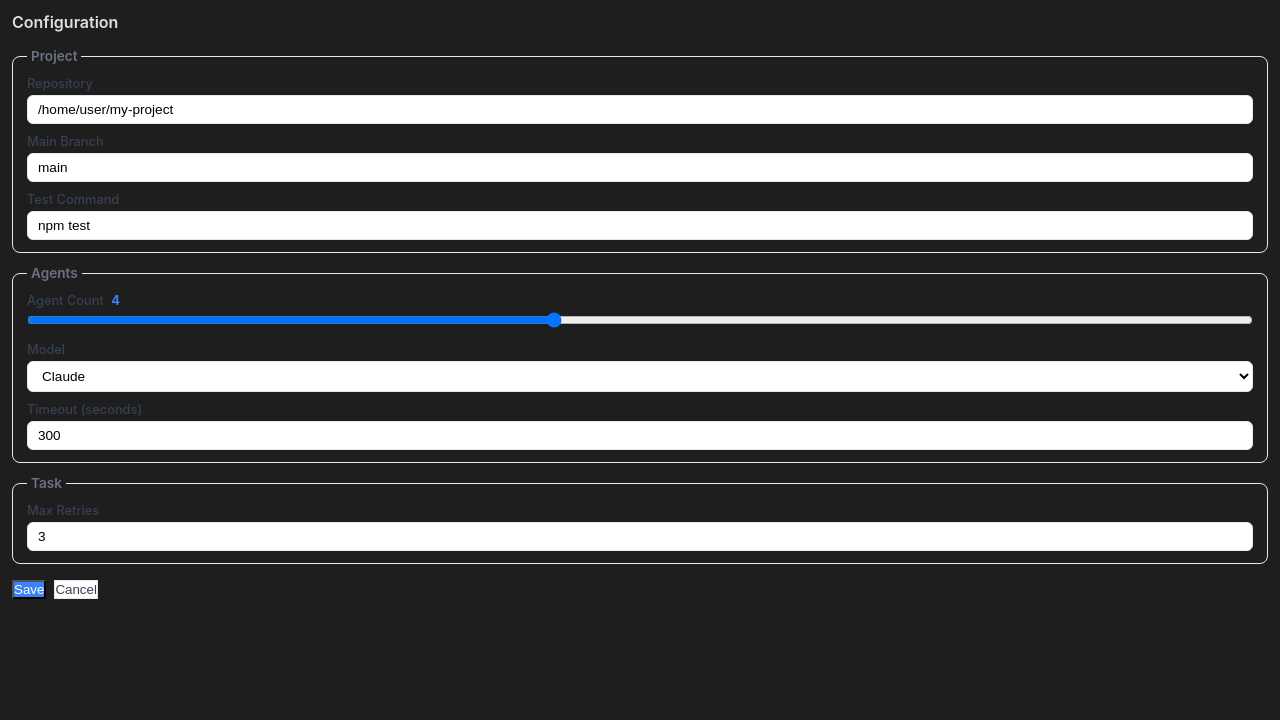
ConfigPanel › should show validation error for negative maxRetries
Replace the text in the number field labelled "Max Retries" with "-1" at coordinates (640, 536), box x1=27 y1=522 x2=1253 y2=551
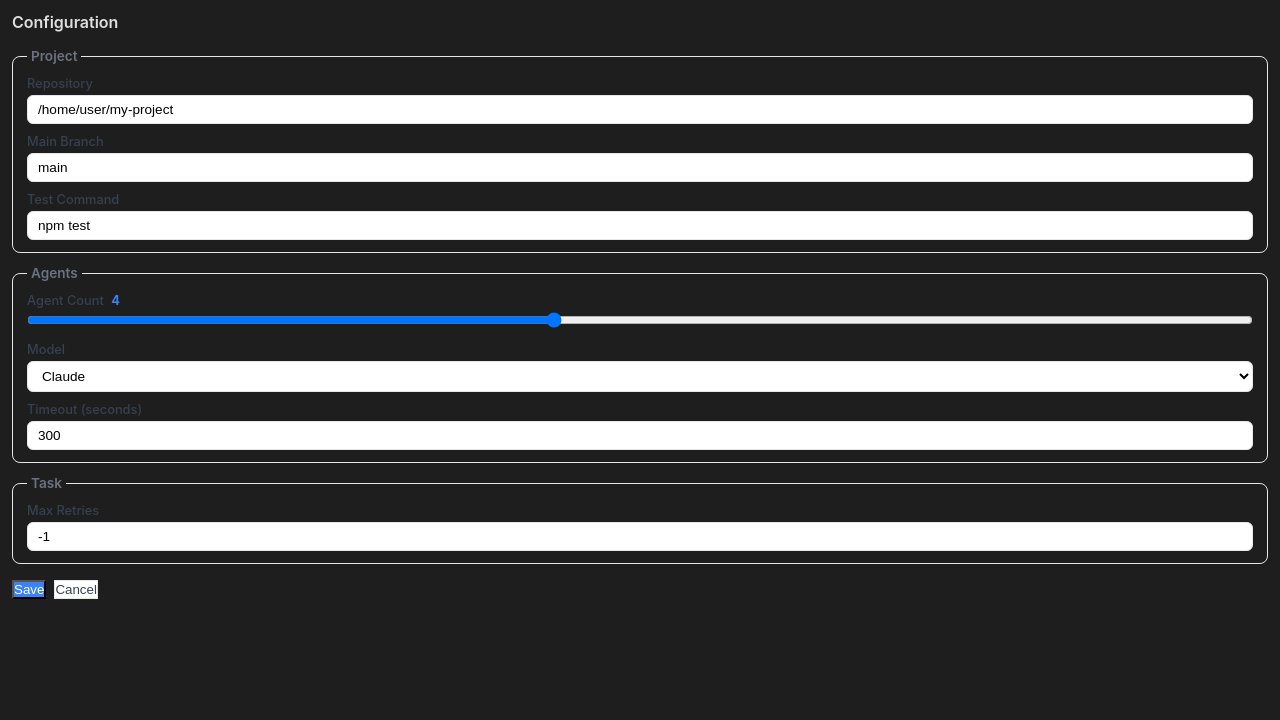
Click the button "Save" at coordinates (29, 590), box x1=12 y1=580 x2=46 y2=599
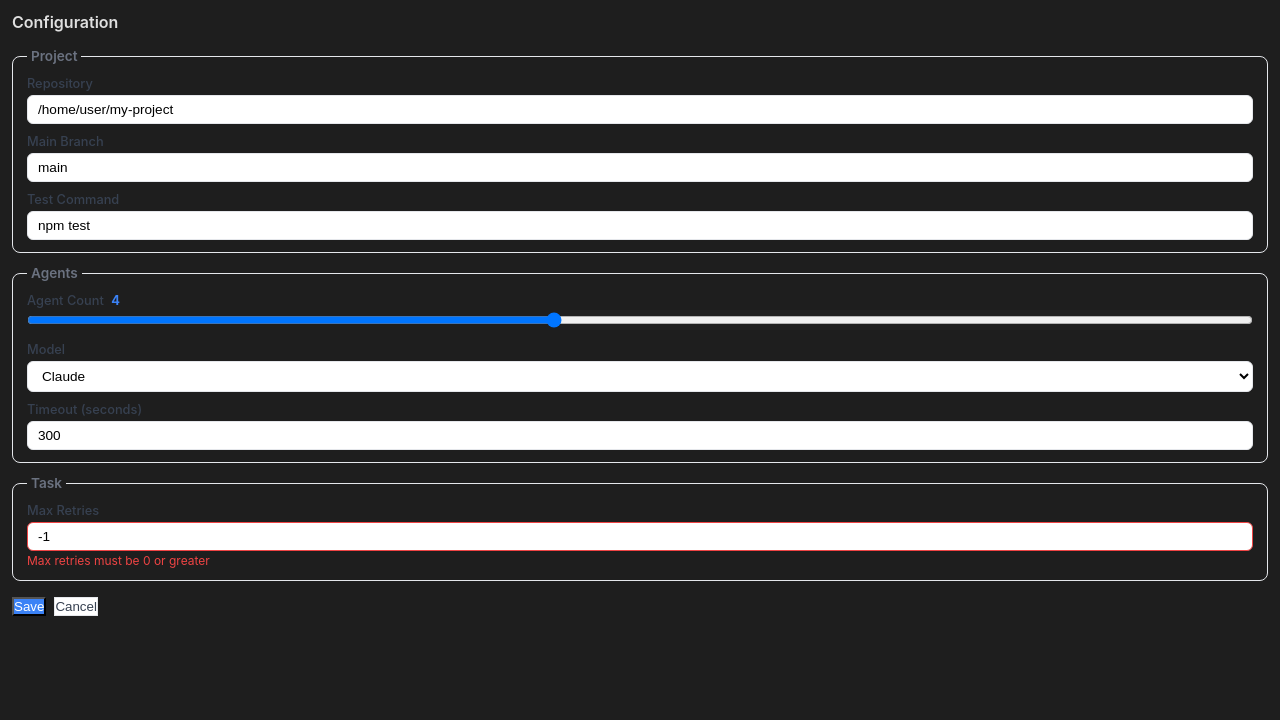
Check: the text "Max retries must be 0 or greater" is shown, box x1=27 y1=553 x2=210 y2=568
